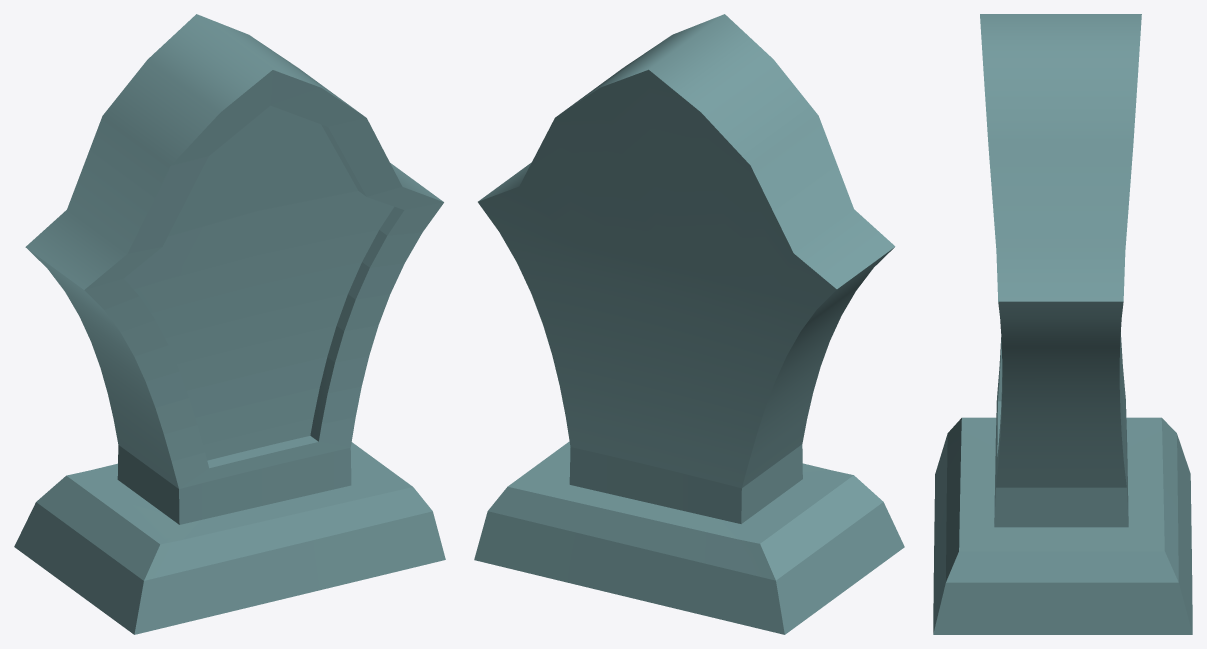
File: Cementery_Tombstone2.fbx
3 views of the same model, side by side, from view 1: azimuth 30°, elevation 25°; view 2: azimuth 150°, elevation 25°; view 3: azimuth 270°, elevation 25° (orthographic). The views are drawn at different scales.
Parts seen in each view (by area): view 1: GraveStone_02; view 2: GraveStone_02; view 3: GraveStone_02.
Boxes of the visible parts, left/top/right/bottom form: GraveStone_02: left=14, top=14, right=445, bottom=634; GraveStone_02: left=474, top=14, right=904, bottom=634; GraveStone_02: left=933, top=14, right=1192, bottom=634.
Size of the model in its own units: 41.19 by 55.85 by 24.21.
